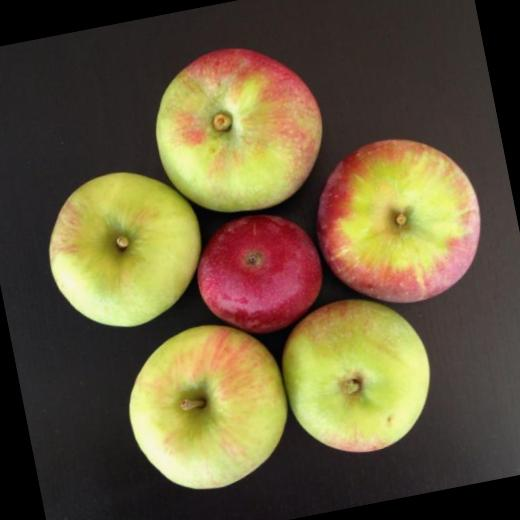Apple: (299, 122, 495, 318), (142, 34, 332, 228), (112, 310, 300, 502), (34, 155, 214, 340), (269, 286, 447, 465), (186, 200, 332, 345)
